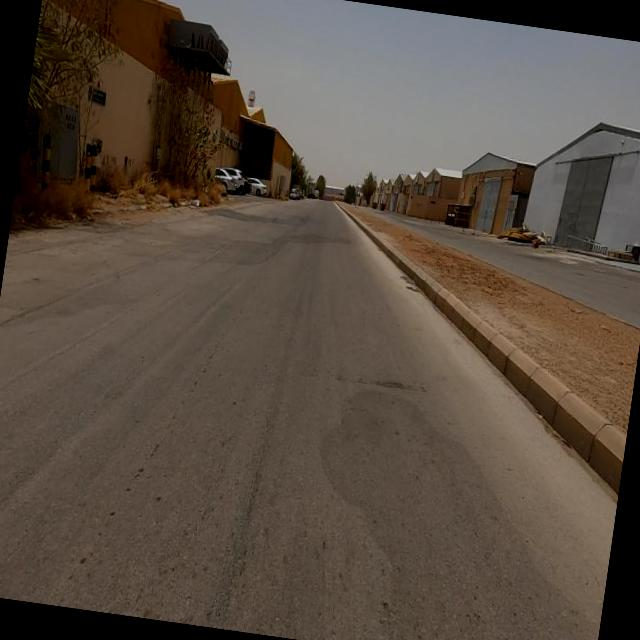debris: (147, 144, 239, 252)
